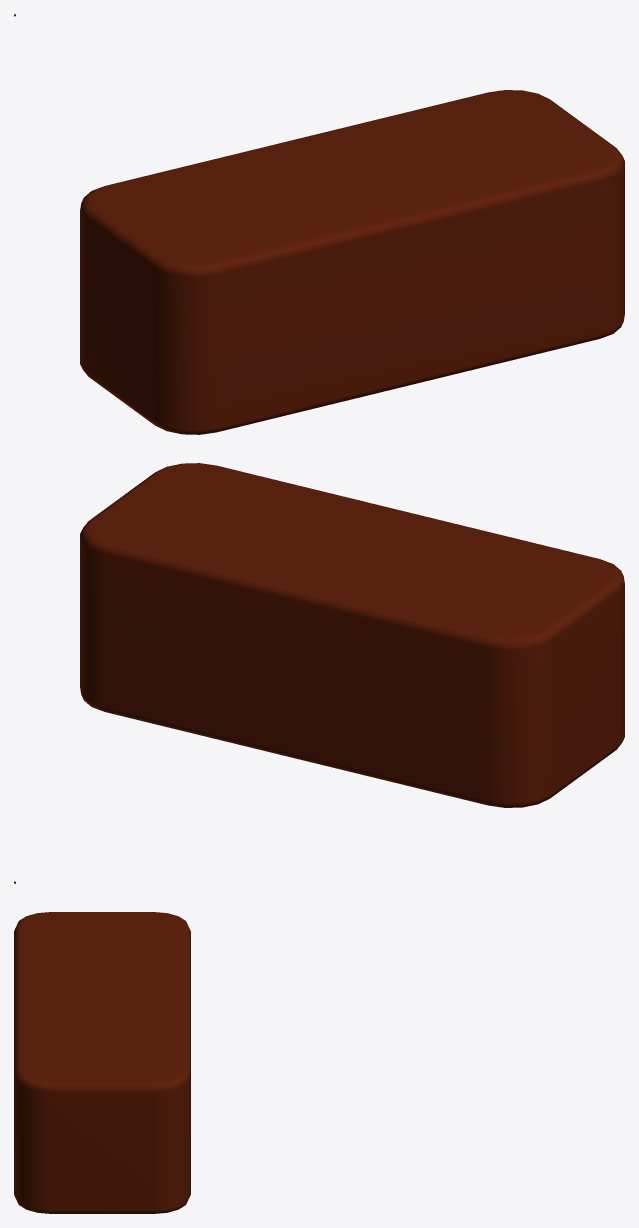
The model's file is AlarmClock_19_AlarmClock_19_0_GeomSubset_0.obj.
The picture shows the model from 3 angles, top to bottom: view 1: azimuth 30°, elevation 25°; view 2: azimuth 150°, elevation 25°; view 3: azimuth 270°, elevation 25°; orthographic projection. The views are drawn at different scales.
Parts seen in each view (by area): view 1: AlarmClock_19_AlarmClock_19_0_GeomSubset_0; view 2: AlarmClock_19_AlarmClock_19_0_GeomSubset_0; view 3: AlarmClock_19_AlarmClock_19_0_GeomSubset_0.
Boxes of the visible parts, bbox=[...] form: AlarmClock_19_AlarmClock_19_0_GeomSubset_0: bbox=[14, 14, 624, 434]; AlarmClock_19_AlarmClock_19_0_GeomSubset_0: bbox=[14, 463, 624, 883]; AlarmClock_19_AlarmClock_19_0_GeomSubset_0: bbox=[14, 912, 190, 1213].
Bounding box in the file's own units: 0.24 × 0.0835 × 0.3518.
